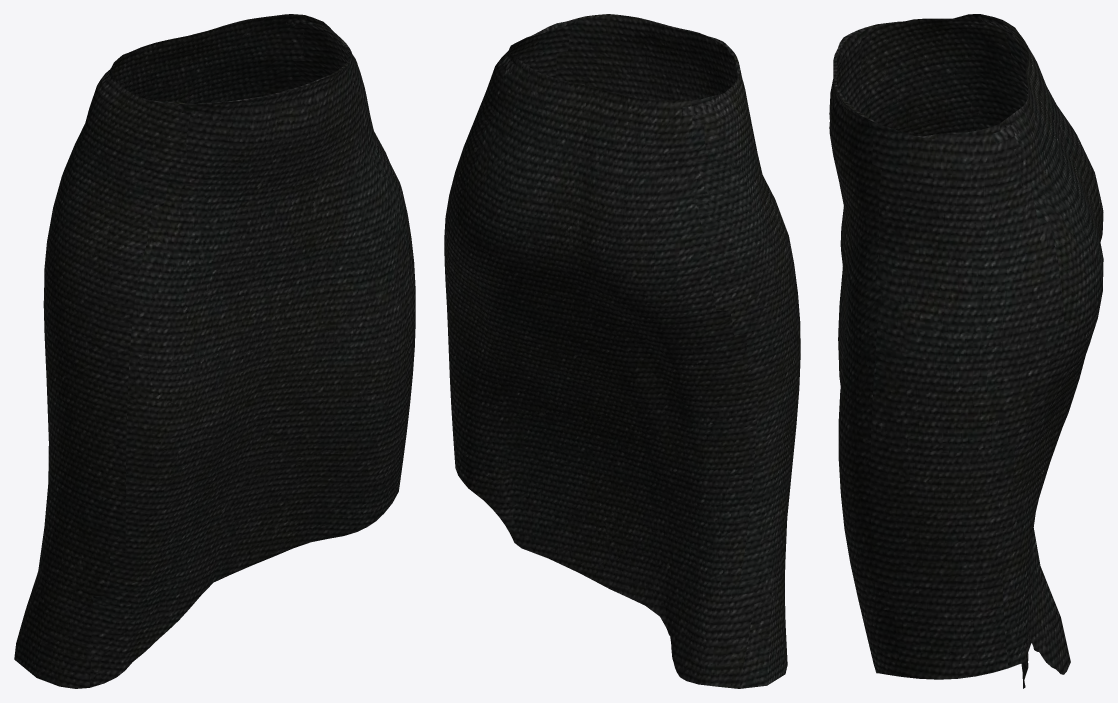
The model's file is elvs-asymmetrical-skirt.glb.
3 renders of one model, left to right at view 1: azimuth 30°, elevation 25°; view 2: azimuth 150°, elevation 25°; view 3: azimuth 270°, elevation 25°, orthographic. The views are drawn at different scales.
Visible parts, largest first — view 1: asymmetrical skirt; view 2: asymmetrical skirt; view 3: asymmetrical skirt.
Part boxes in pixels (x1,y1,x2,y2): asymmetrical skirt: (14, 14, 415, 688); asymmetrical skirt: (444, 14, 800, 688); asymmetrical skirt: (829, 14, 1103, 688).
Size of the model in its own units: 43.38 by 68.6 by 25.17.
Materials: 1 (1 with a texture image).
